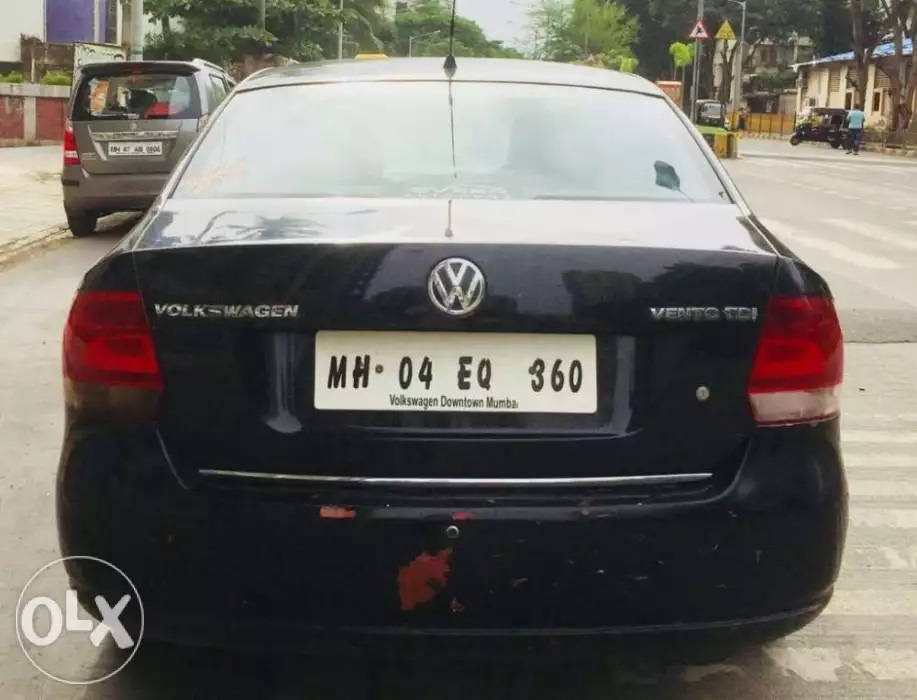licenseplate: (300, 324, 608, 419)
